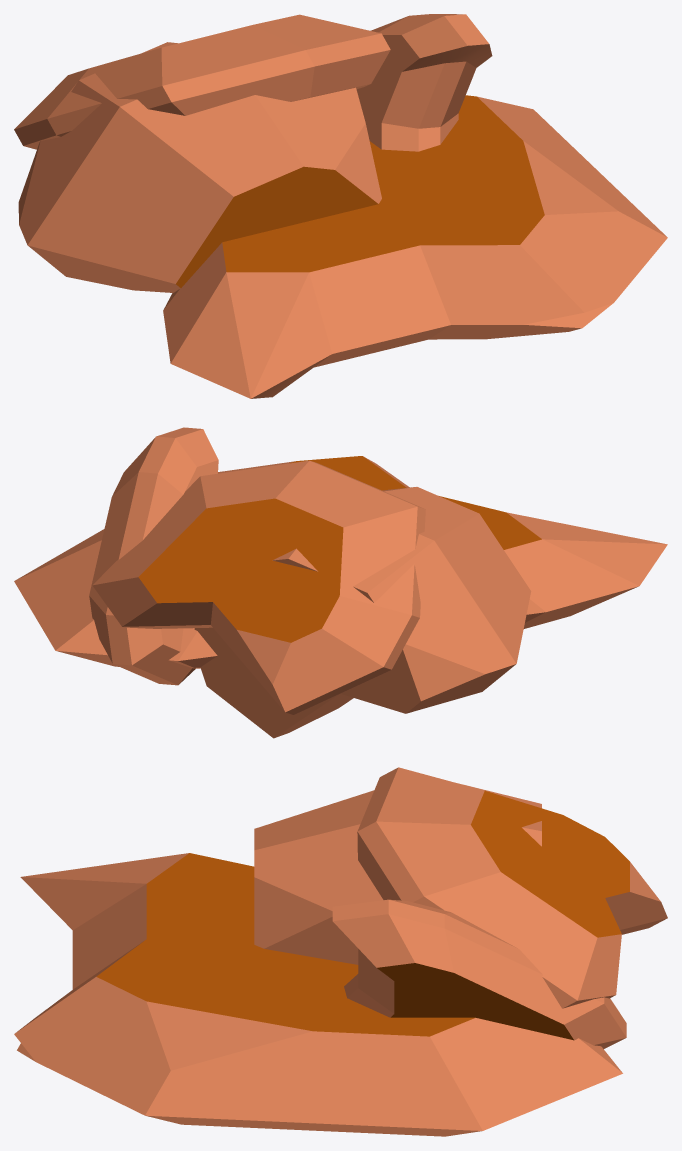
The model's file is astroid04.glb.
3 views of the same model, one above another, from view 1: azimuth 30°, elevation 25°; view 2: azimuth 150°, elevation 25°; view 3: azimuth 270°, elevation 25° (orthographic). The views are drawn at different scales.
Parts seen in each view (by area): view 1: mergedBlocks(Clone); view 2: mergedBlocks(Clone); view 3: mergedBlocks(Clone).
Boxes of the visible parts, x1,y1,x2,y2 form: mergedBlocks(Clone): [14, 14, 667, 398]; mergedBlocks(Clone): [14, 427, 667, 738]; mergedBlocks(Clone): [14, 767, 667, 1136].
Bounding box in the file's own units: 4.11 × 1.9 × 4.24.
Materials: 1 (1 with a texture image).
